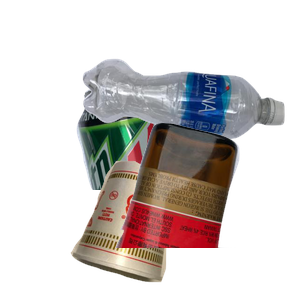glass: (113, 120, 300, 300)
metal: (74, 74, 257, 254)
plastic: (80, 56, 300, 187)
trash: (68, 158, 235, 300)
